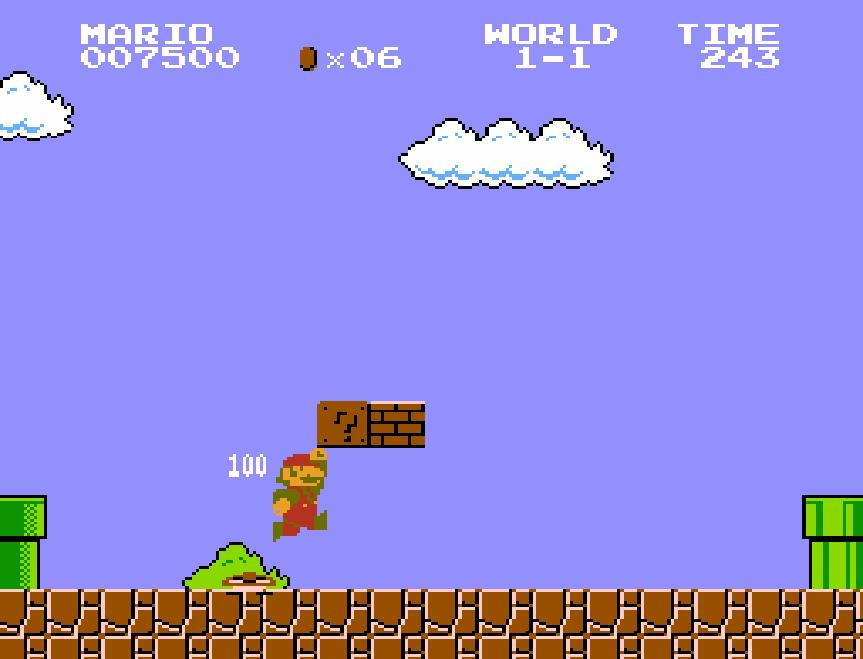big_mario: (270, 446, 328, 544)
